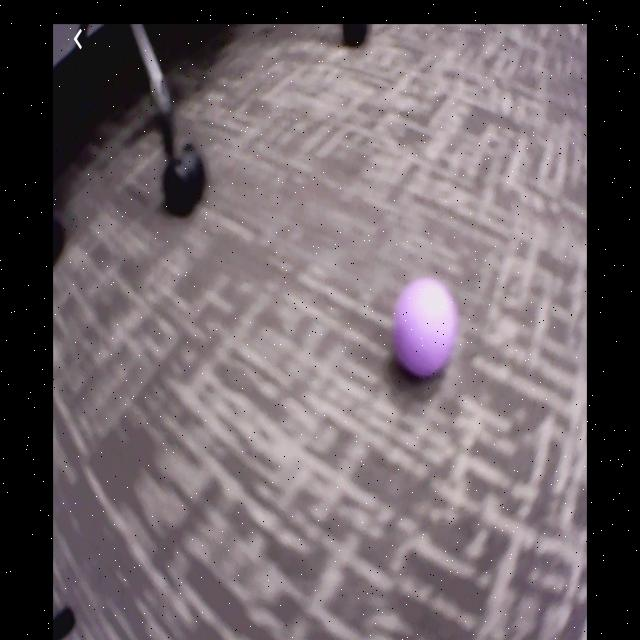ball: (395, 280, 457, 376)
